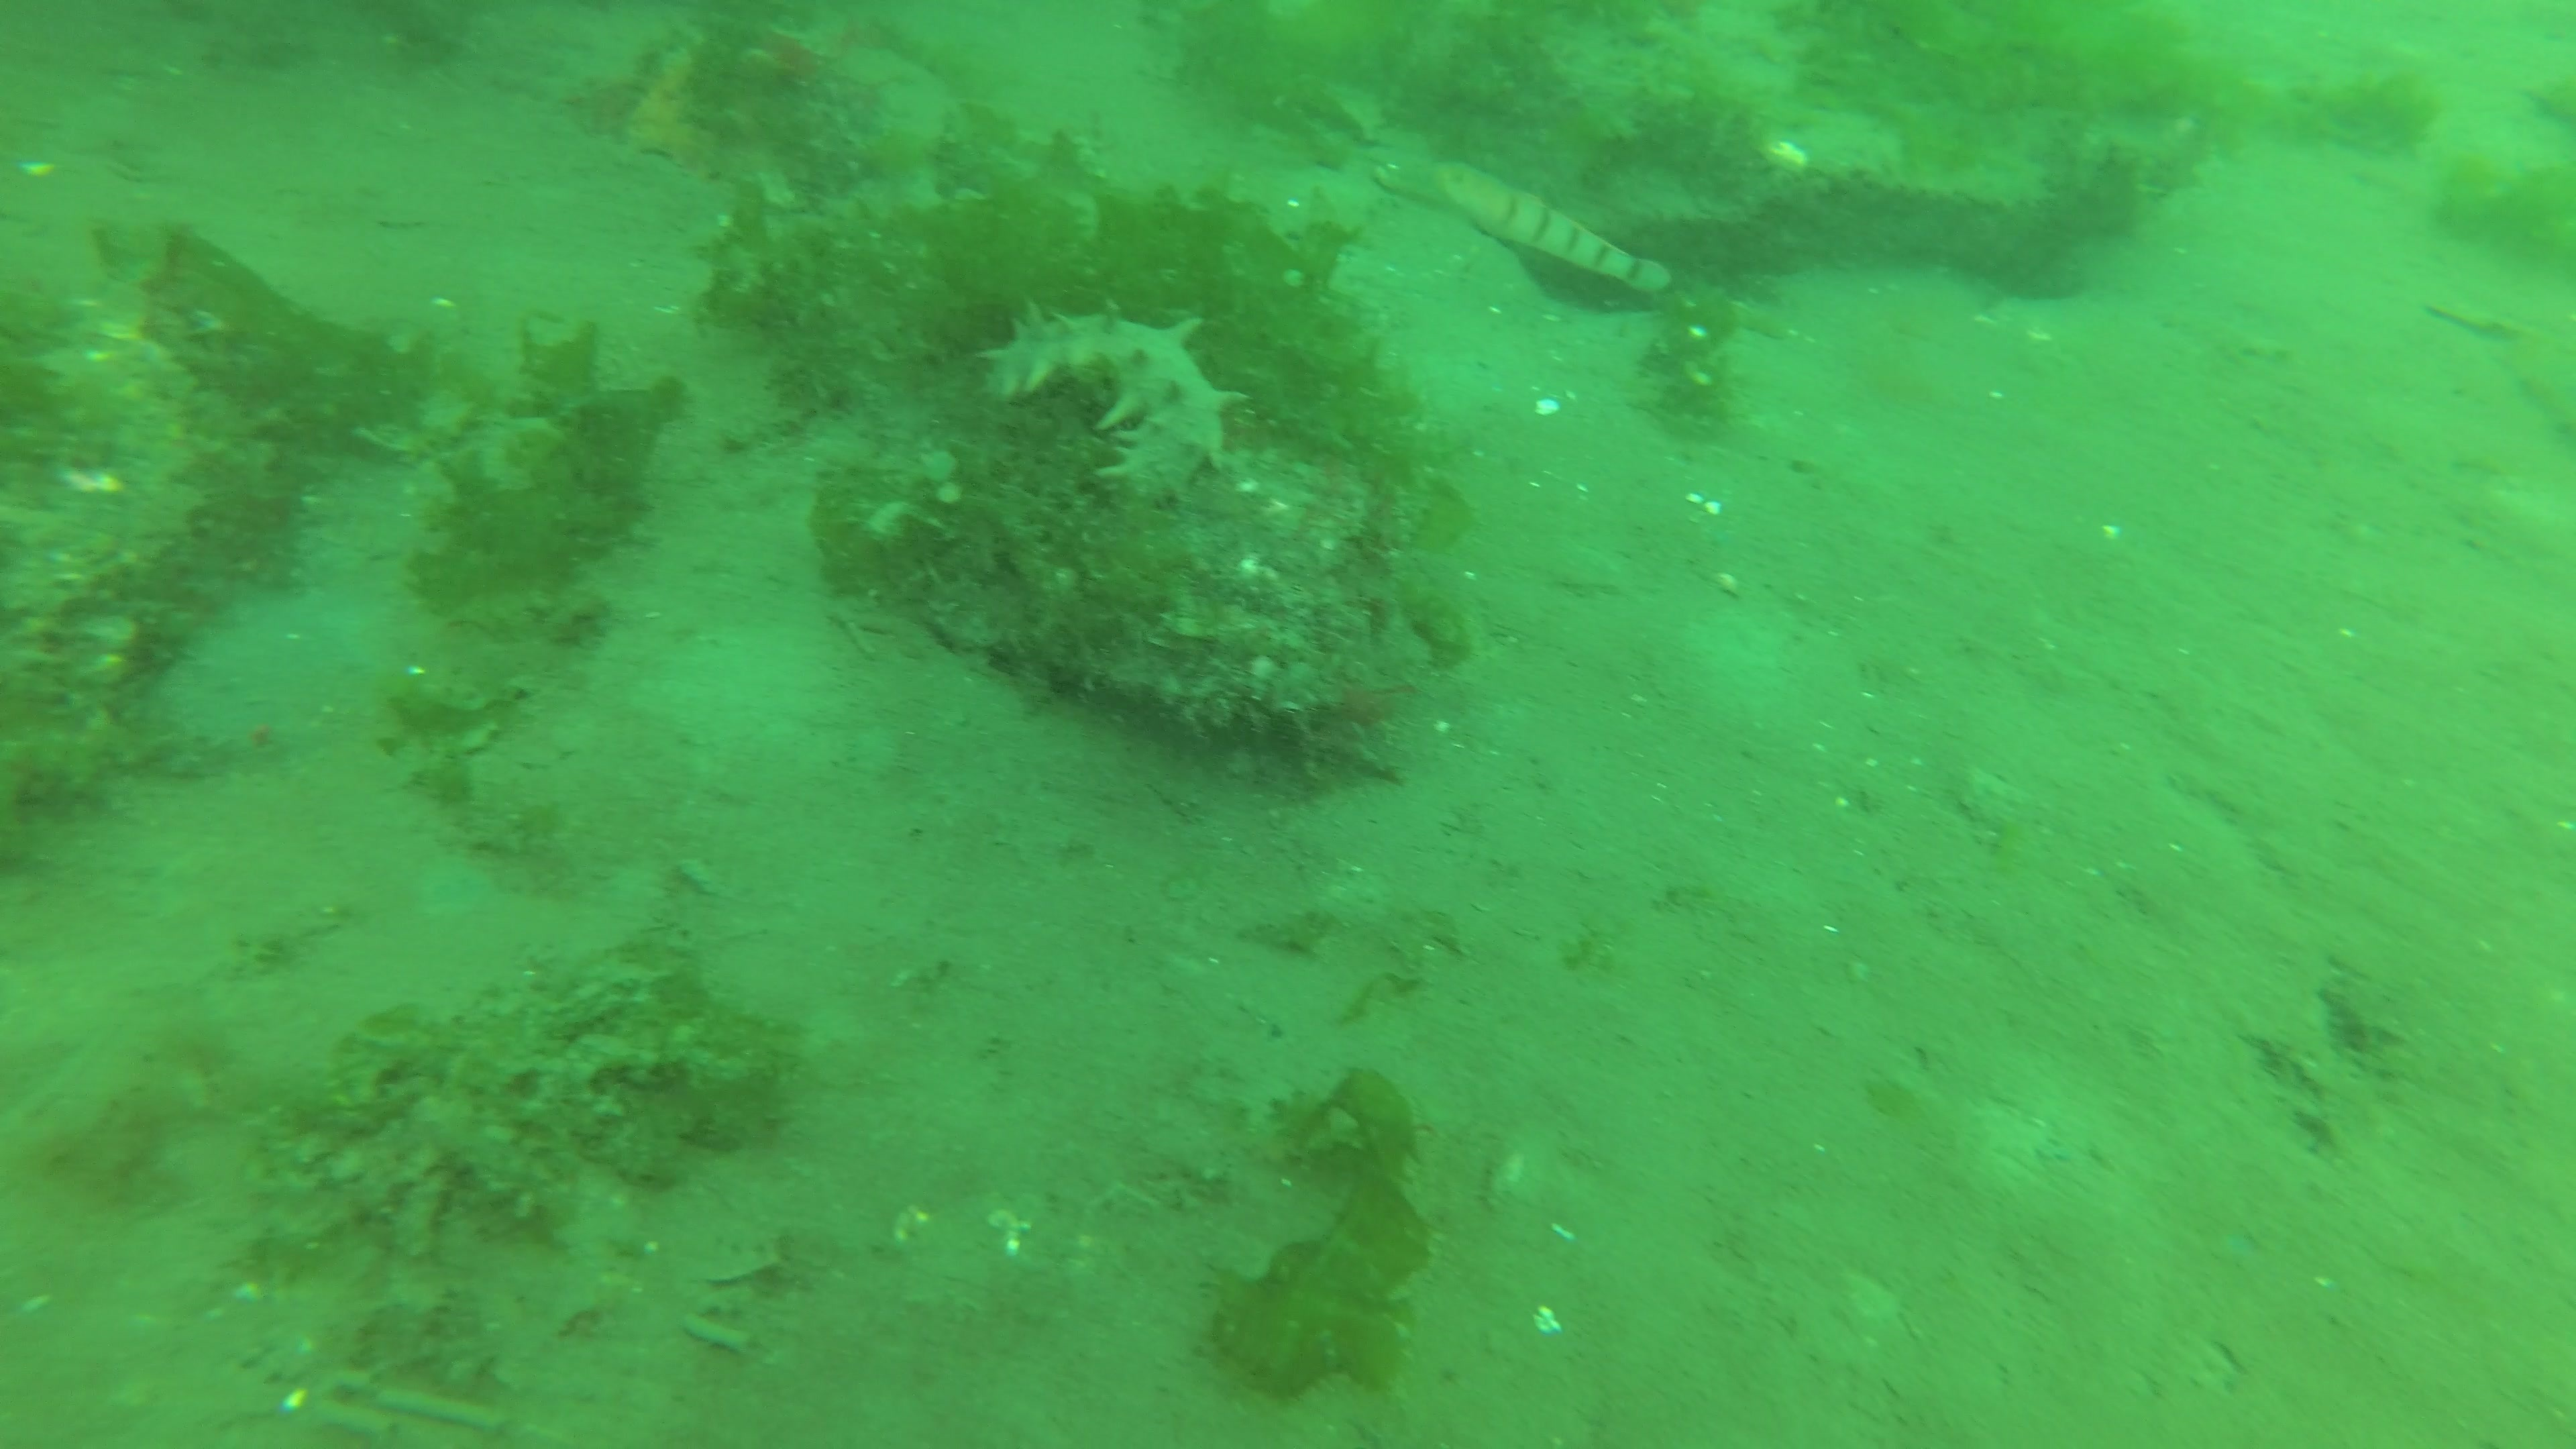holothurian: (973, 295, 1246, 511)
